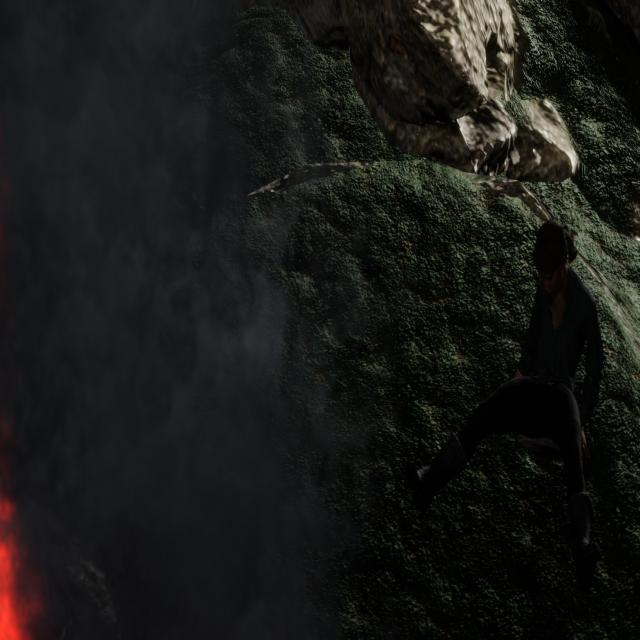Human: (394, 216, 607, 604)
